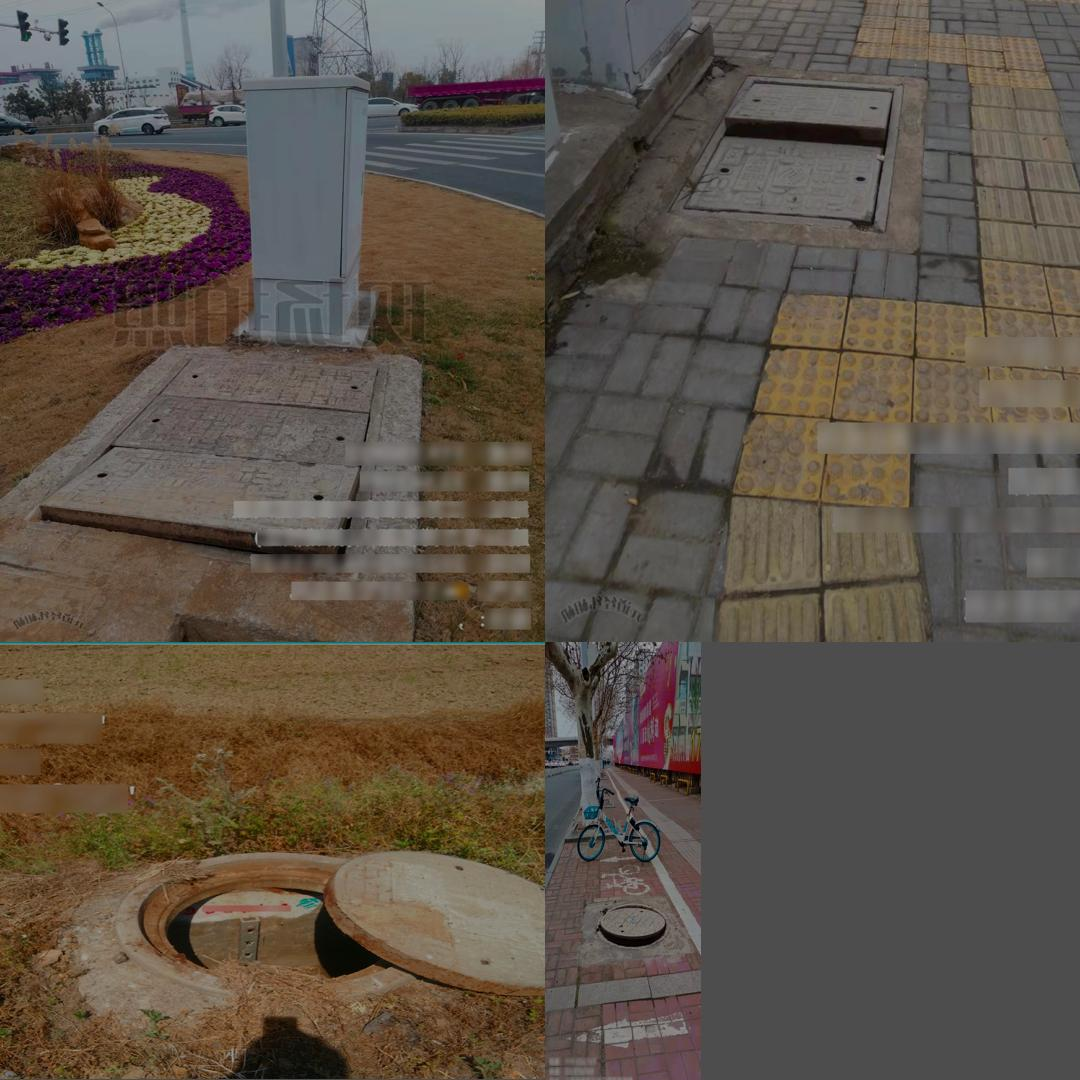uncovered: (22, 350, 388, 575), (104, 830, 545, 1010), (668, 73, 903, 228), (596, 903, 669, 951)
